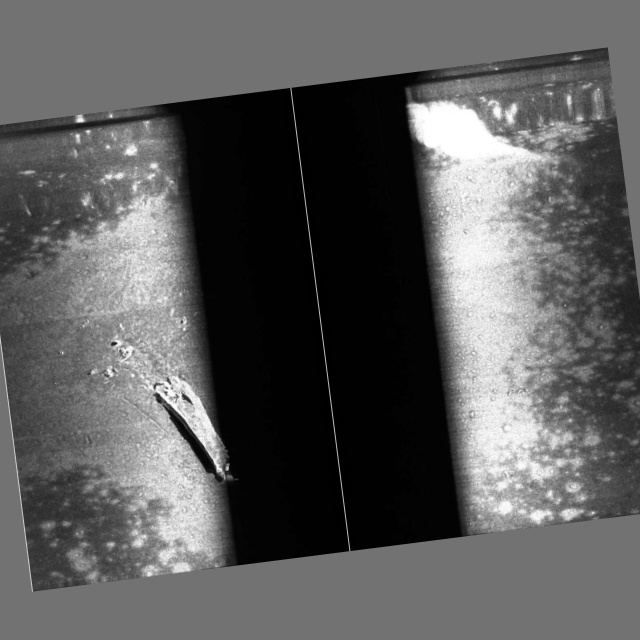Shipwreck: (46, 302, 239, 502)
